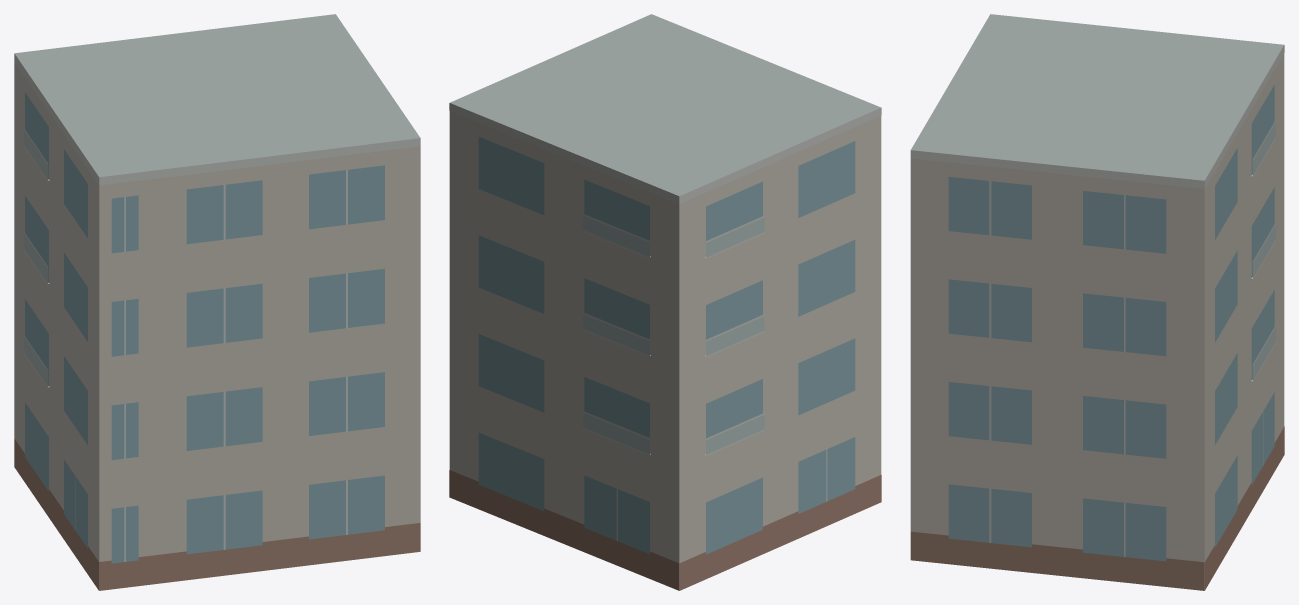
File: residential-383576b7-f0e2-4474-8d22-cd51b30df9b9.glb
The picture shows the model from 3 angles, left to right: view 1: azimuth 30°, elevation 25°; view 2: azimuth 150°, elevation 25°; view 3: azimuth 270°, elevation 25°; orthographic projection. The views are drawn at different scales.
Parts seen in each view (by area): view 1: residential-383576b7-f0e2-4474-8d22-cd51b30df9b9.tmp; view 2: residential-383576b7-f0e2-4474-8d22-cd51b30df9b9.tmp; view 3: residential-383576b7-f0e2-4474-8d22-cd51b30df9b9.tmp.
Boxes of the visible parts, left/top/right/bottom form: residential-383576b7-f0e2-4474-8d22-cd51b30df9b9.tmp: left=14, top=14, right=420, bottom=590; residential-383576b7-f0e2-4474-8d22-cd51b30df9b9.tmp: left=449, top=14, right=881, bottom=590; residential-383576b7-f0e2-4474-8d22-cd51b30df9b9.tmp: left=910, top=14, right=1284, bottom=590.
Size of the model in its own units: 10.65 by 12.2 by 10.09.
